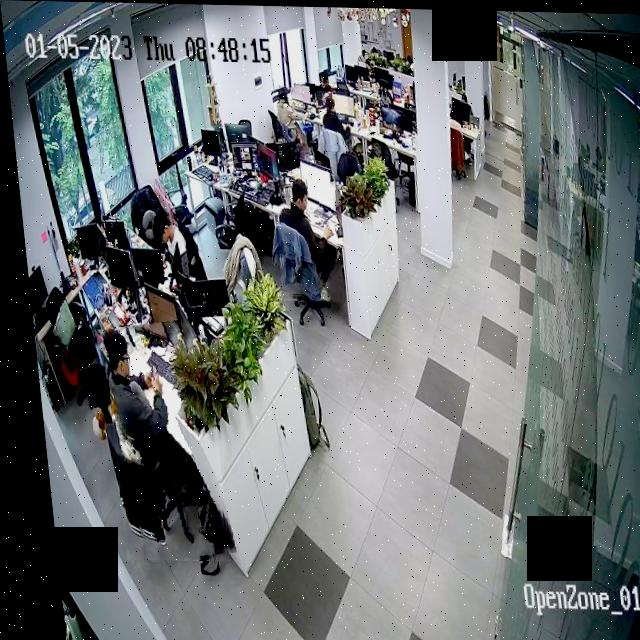person: (95, 321, 219, 561), (267, 174, 339, 300), (145, 211, 197, 277), (271, 87, 305, 151), (315, 90, 350, 150), (313, 67, 334, 109)
